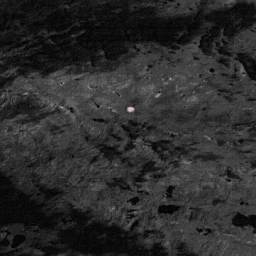Target: (125, 105, 136, 114)
